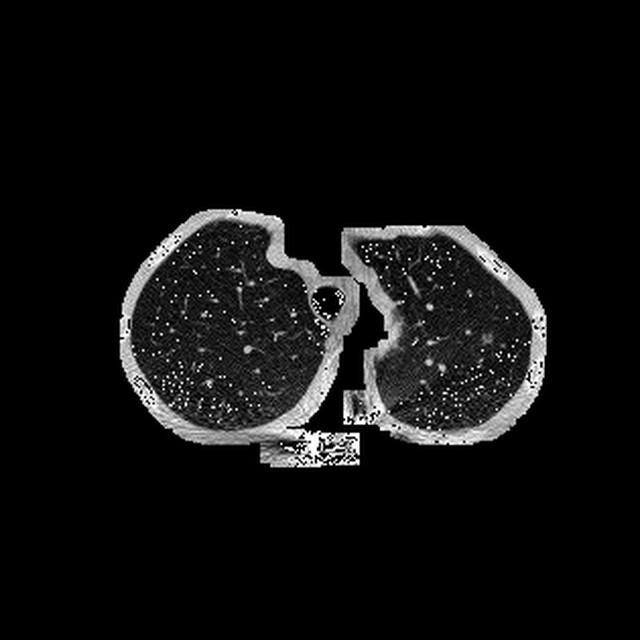PN: (484, 333, 492, 341)
